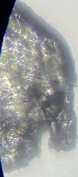microplastic: (1, 1, 78, 175)
